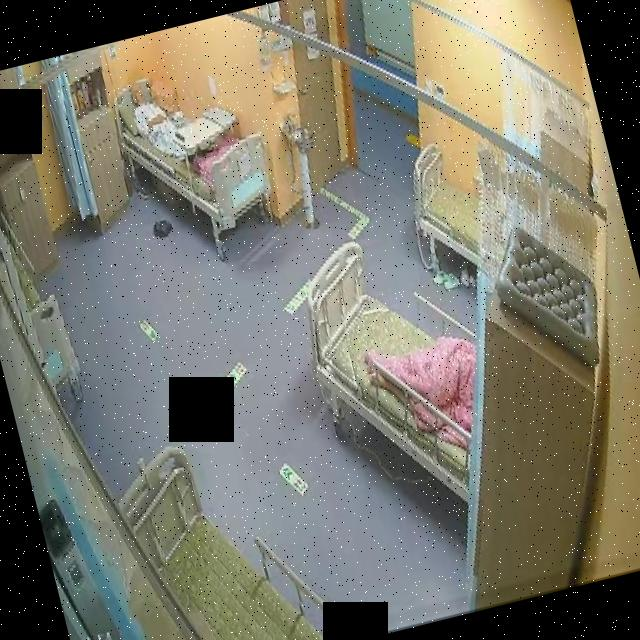bed: (286, 222, 505, 526), (106, 415, 361, 640), (101, 54, 282, 252), (400, 136, 493, 278)
lie: (124, 72, 186, 164)
patient: (124, 76, 184, 166)
